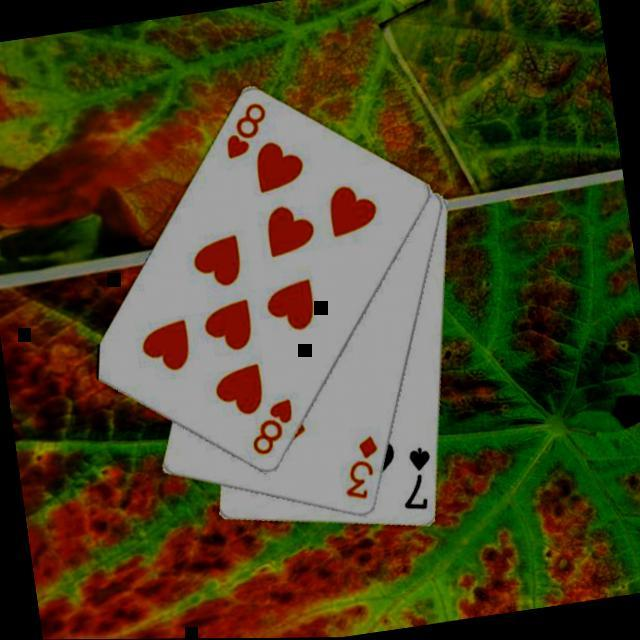3D: (336, 431, 389, 504)
7S: (395, 442, 442, 515)
8H: (244, 395, 302, 460), (218, 97, 276, 162)
